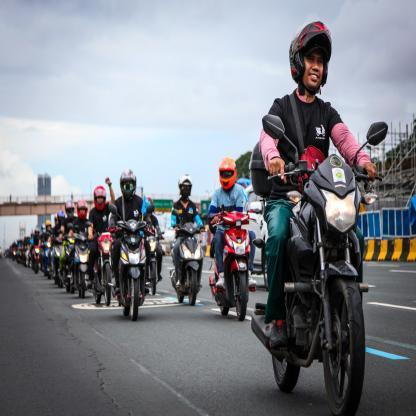helmet: (288, 20, 333, 96), (218, 156, 238, 191), (119, 168, 137, 202), (177, 172, 193, 199), (93, 184, 107, 212), (76, 198, 88, 220), (65, 199, 76, 221), (57, 209, 65, 224)
